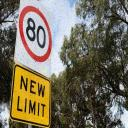speed_limit_80: (18, 5, 53, 64)
